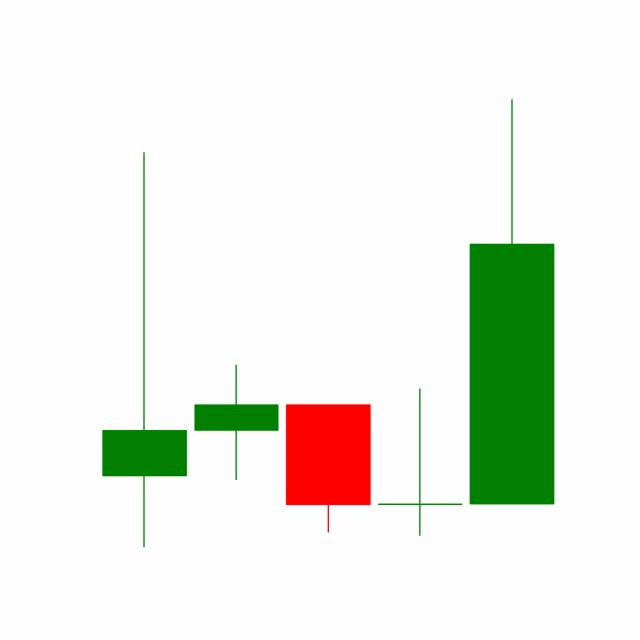Spinning Top: (373, 387, 467, 538)
